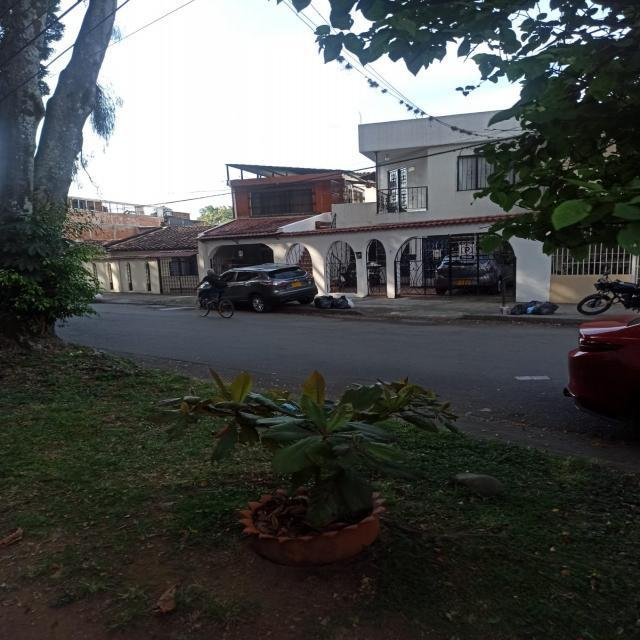Trashbag: (504, 300, 533, 318), (527, 304, 556, 318), (315, 295, 333, 313), (332, 294, 349, 310)
